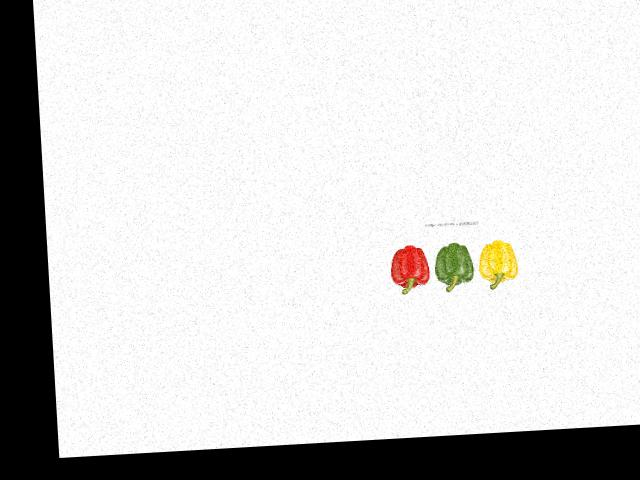bell_pepper: (474, 235, 521, 289)
